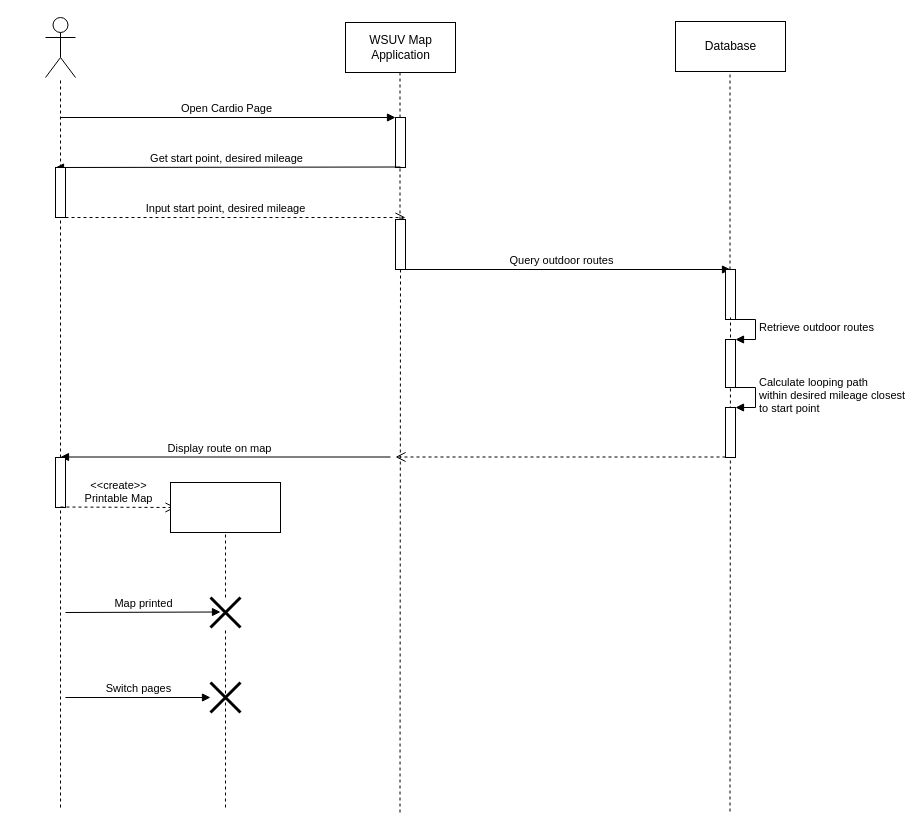
Some shapes in this 923 by 831 pixel diagram are drawn without their labels. Each missing label, with the centre of its shape:
"Application User" belongs at (x=60, y=47).
"Printable Map" belongs at (x=225, y=507).
